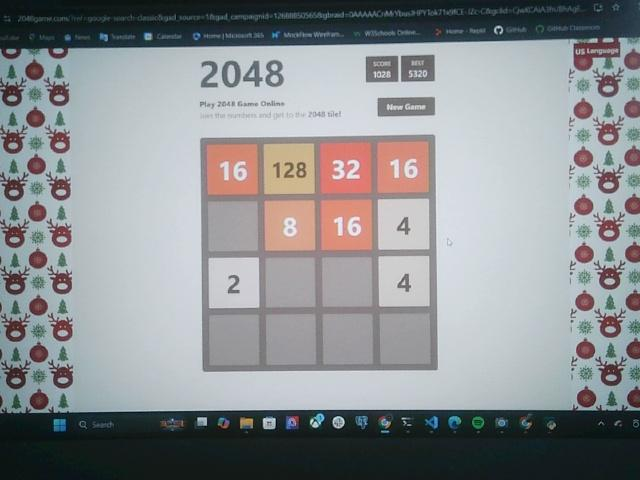board: (201, 137, 437, 372)
tile: (321, 200, 373, 252), (319, 143, 372, 194), (207, 143, 259, 194), (378, 199, 429, 251), (208, 257, 260, 308), (265, 144, 316, 195), (265, 200, 316, 251), (379, 257, 430, 308), (378, 143, 428, 193)
